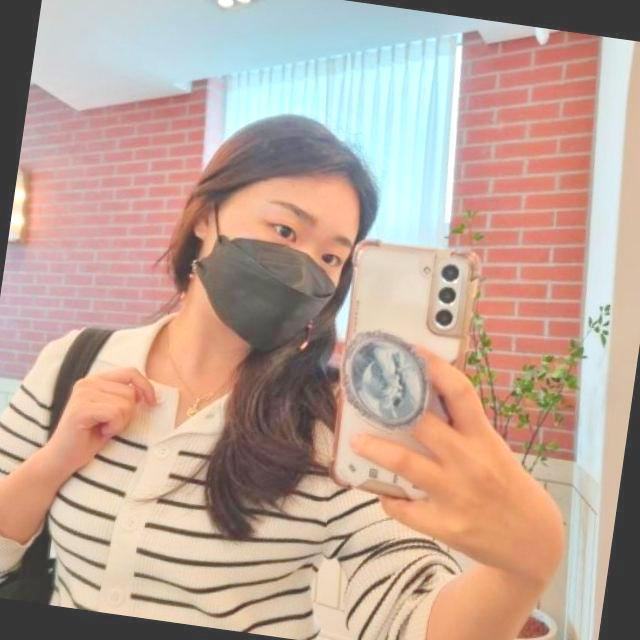lens: (434, 252, 460, 332)
phone: (320, 229, 490, 517)
